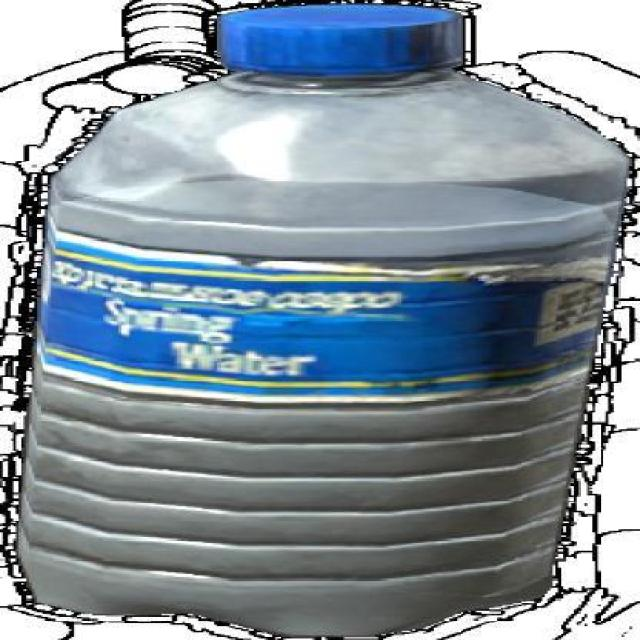bottle: (13, 4, 638, 639)
